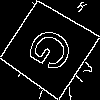G: (24, 23, 85, 81)
